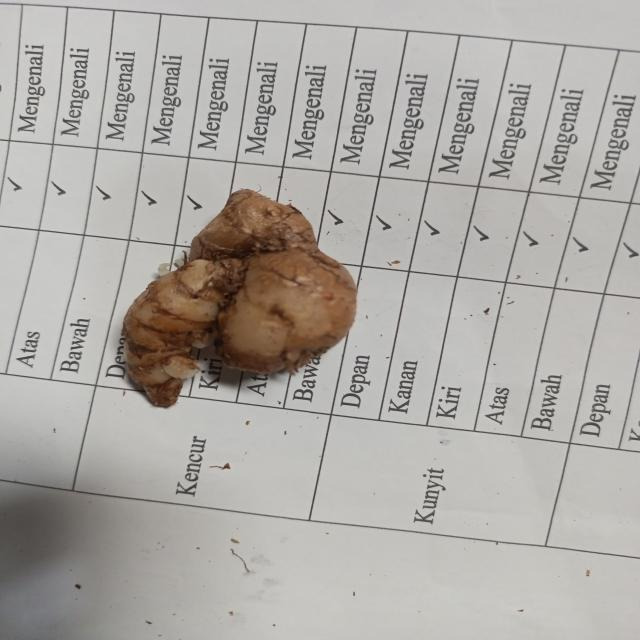ginger: (137, 185, 356, 402)
